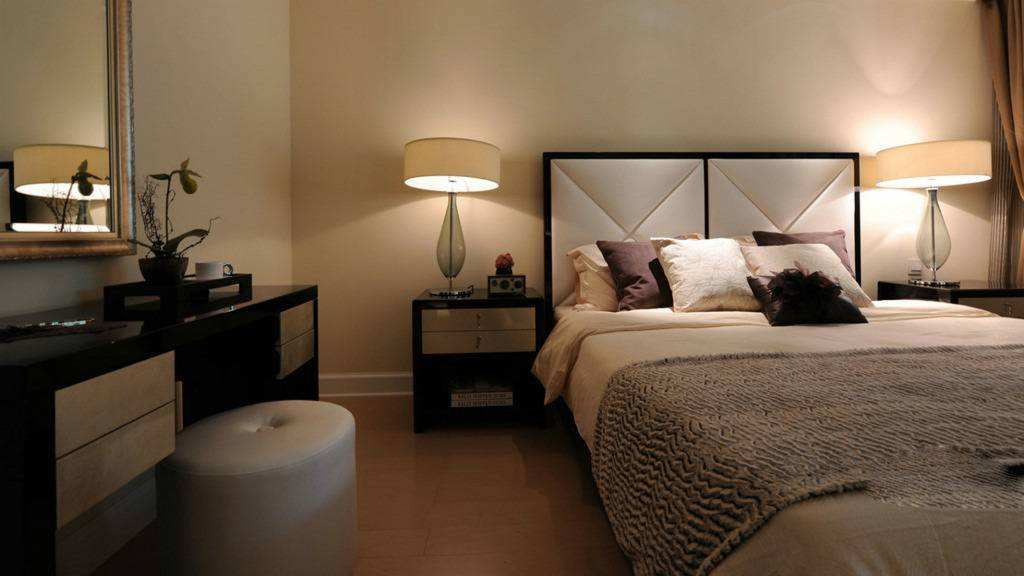床: (550, 296, 1014, 564)
枕头: (579, 233, 881, 323)
灯: (878, 140, 1003, 312), (407, 137, 501, 314)
